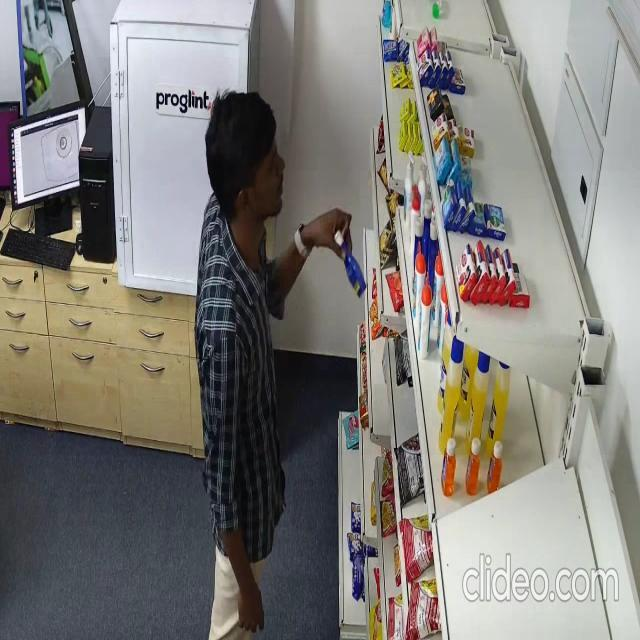normal: (196, 84, 366, 640)
